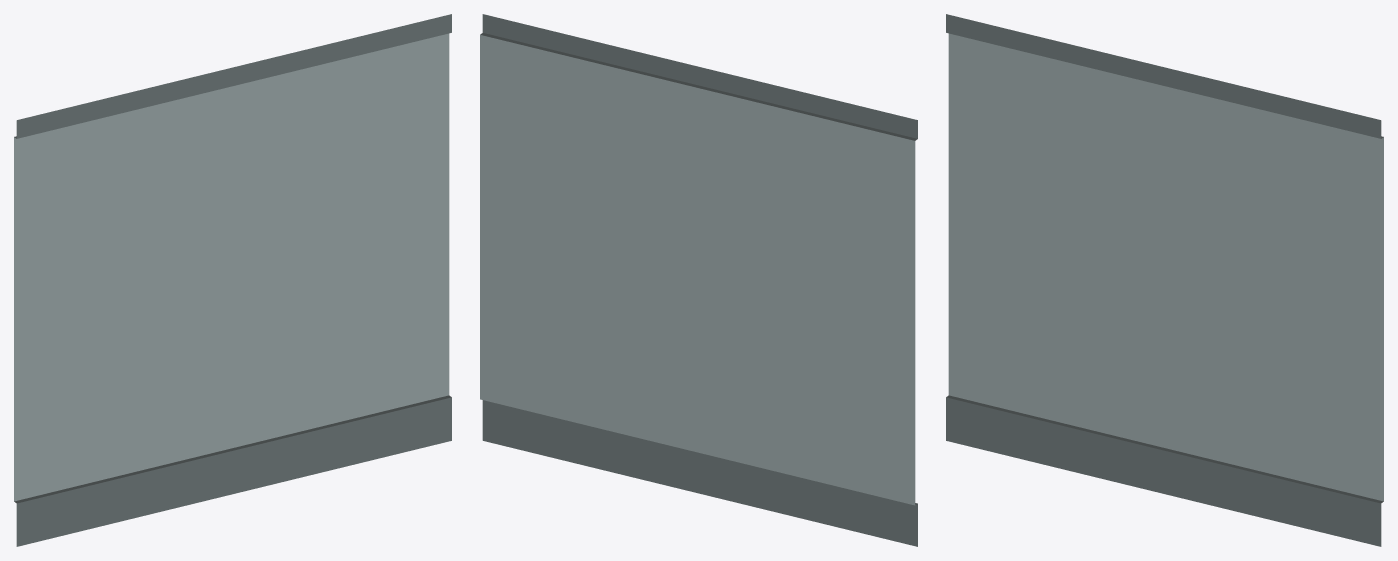
The model's file is Wall3.glb.
3 renders of one model, left to right at view 1: azimuth 30°, elevation 25°; view 2: azimuth 150°, elevation 25°; view 3: azimuth 330°, elevation 25°, orthographic.
Parts seen in each view (by area): view 1: SI_Env_Wall_03; view 2: SI_Env_Wall_03; view 3: SI_Env_Wall_03.
Part boxes in pixels (x1,y1,x2,y2): SI_Env_Wall_03: [14, 14, 451, 546]; SI_Env_Wall_03: [480, 14, 917, 546]; SI_Env_Wall_03: [946, 14, 1383, 546].
Size of the model in its own units: 0.05 by 0.0469 by 0.000549.
Materials: 1 (1 with a texture image).
